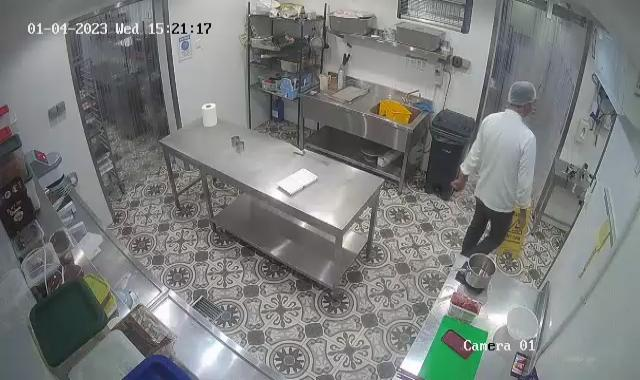hairnet: (508, 79, 538, 110)
